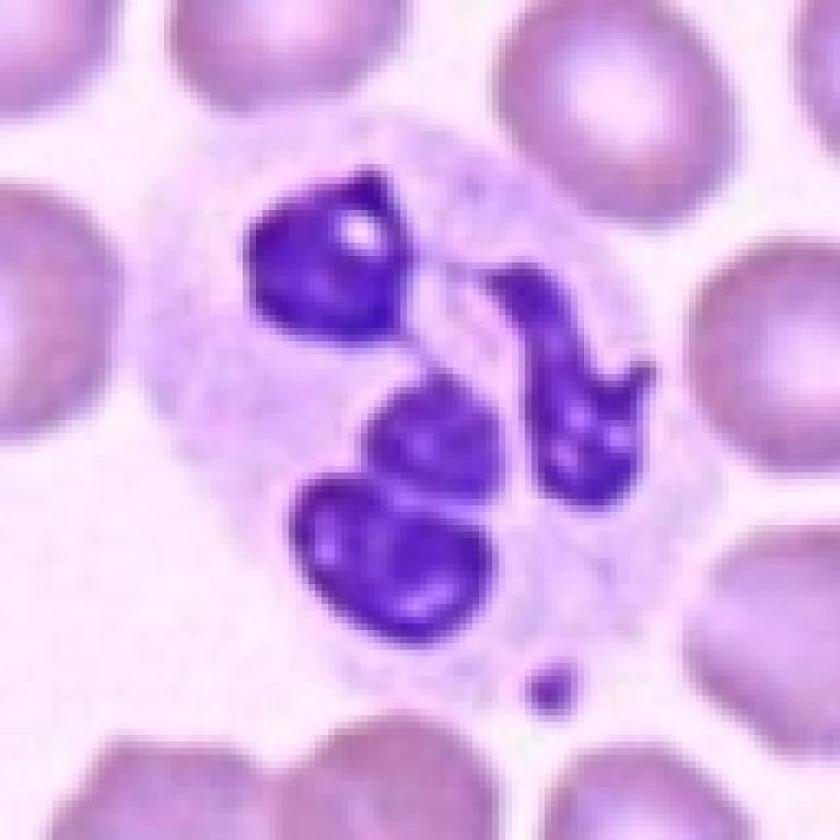neutrophil: (132, 98, 726, 704)
